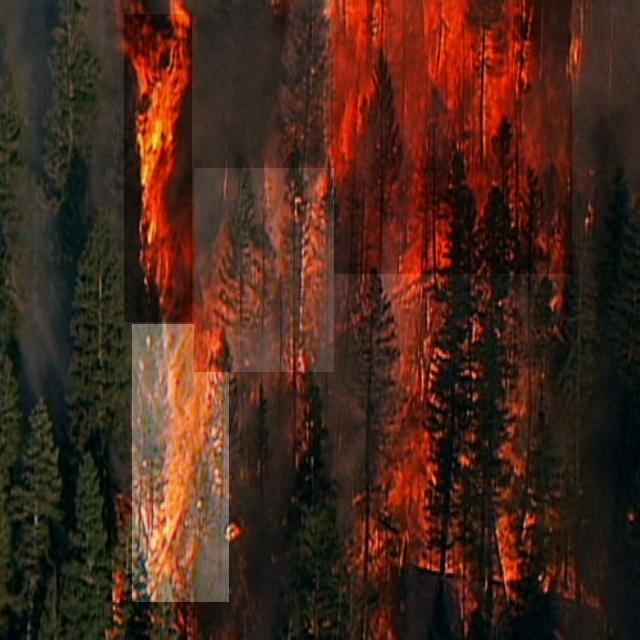Fire: (331, 0, 572, 274), (369, 284, 538, 614), (194, 168, 334, 372), (132, 324, 229, 602), (124, 15, 192, 322)
